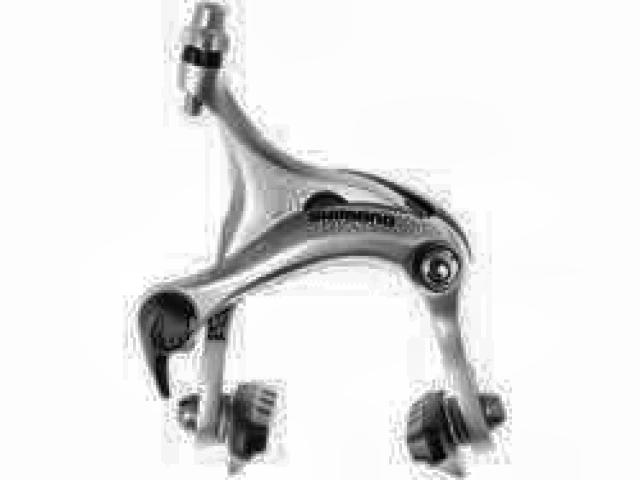rim_brake: (134, 5, 506, 477)
